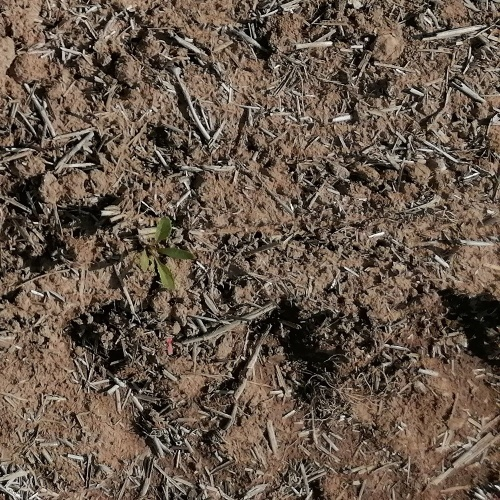beet: (132, 214, 196, 290)
